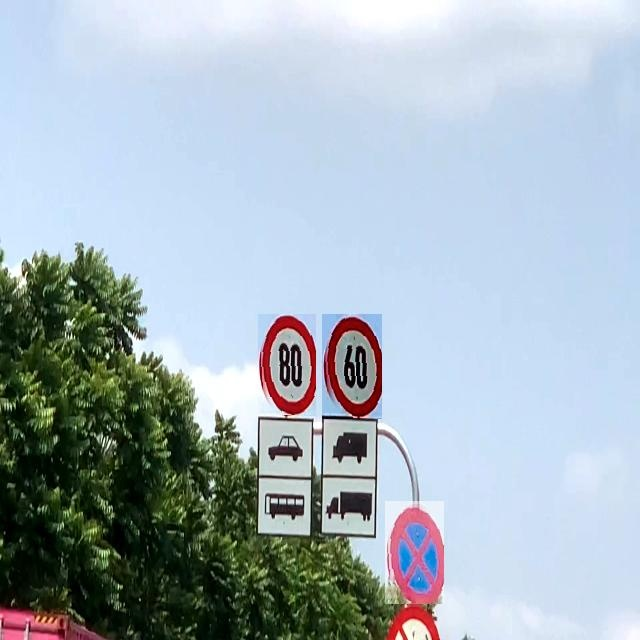bien_cam: (322, 314, 382, 419), (385, 501, 444, 604), (258, 314, 316, 416)
